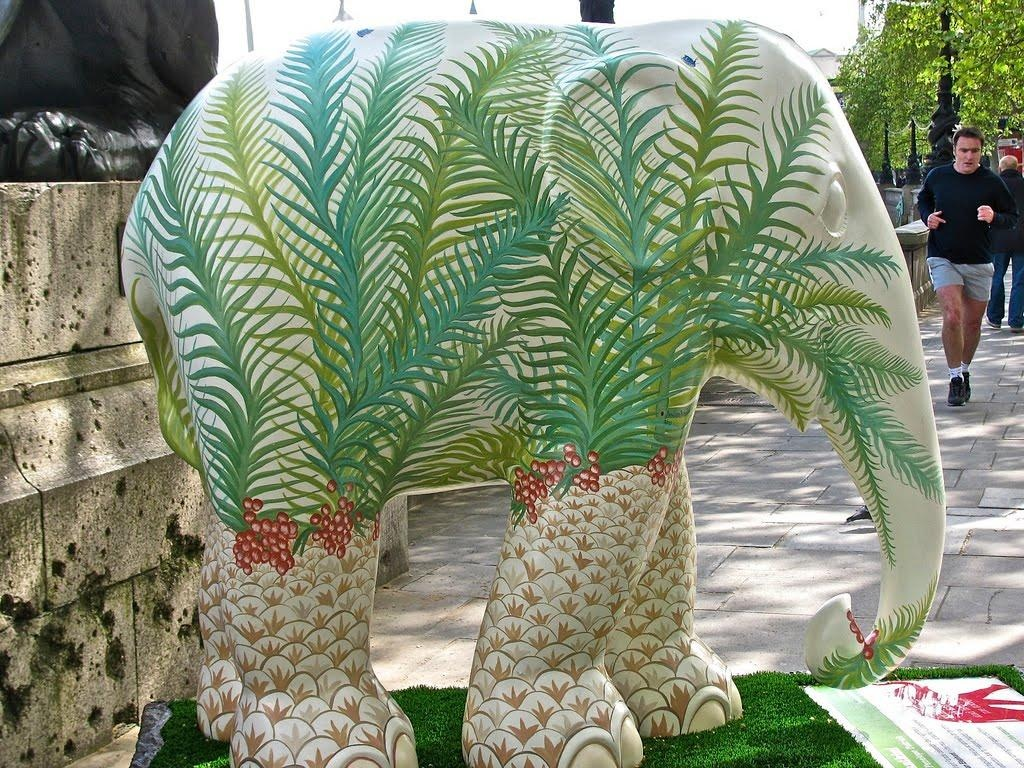human_face: (954, 134, 980, 172)
